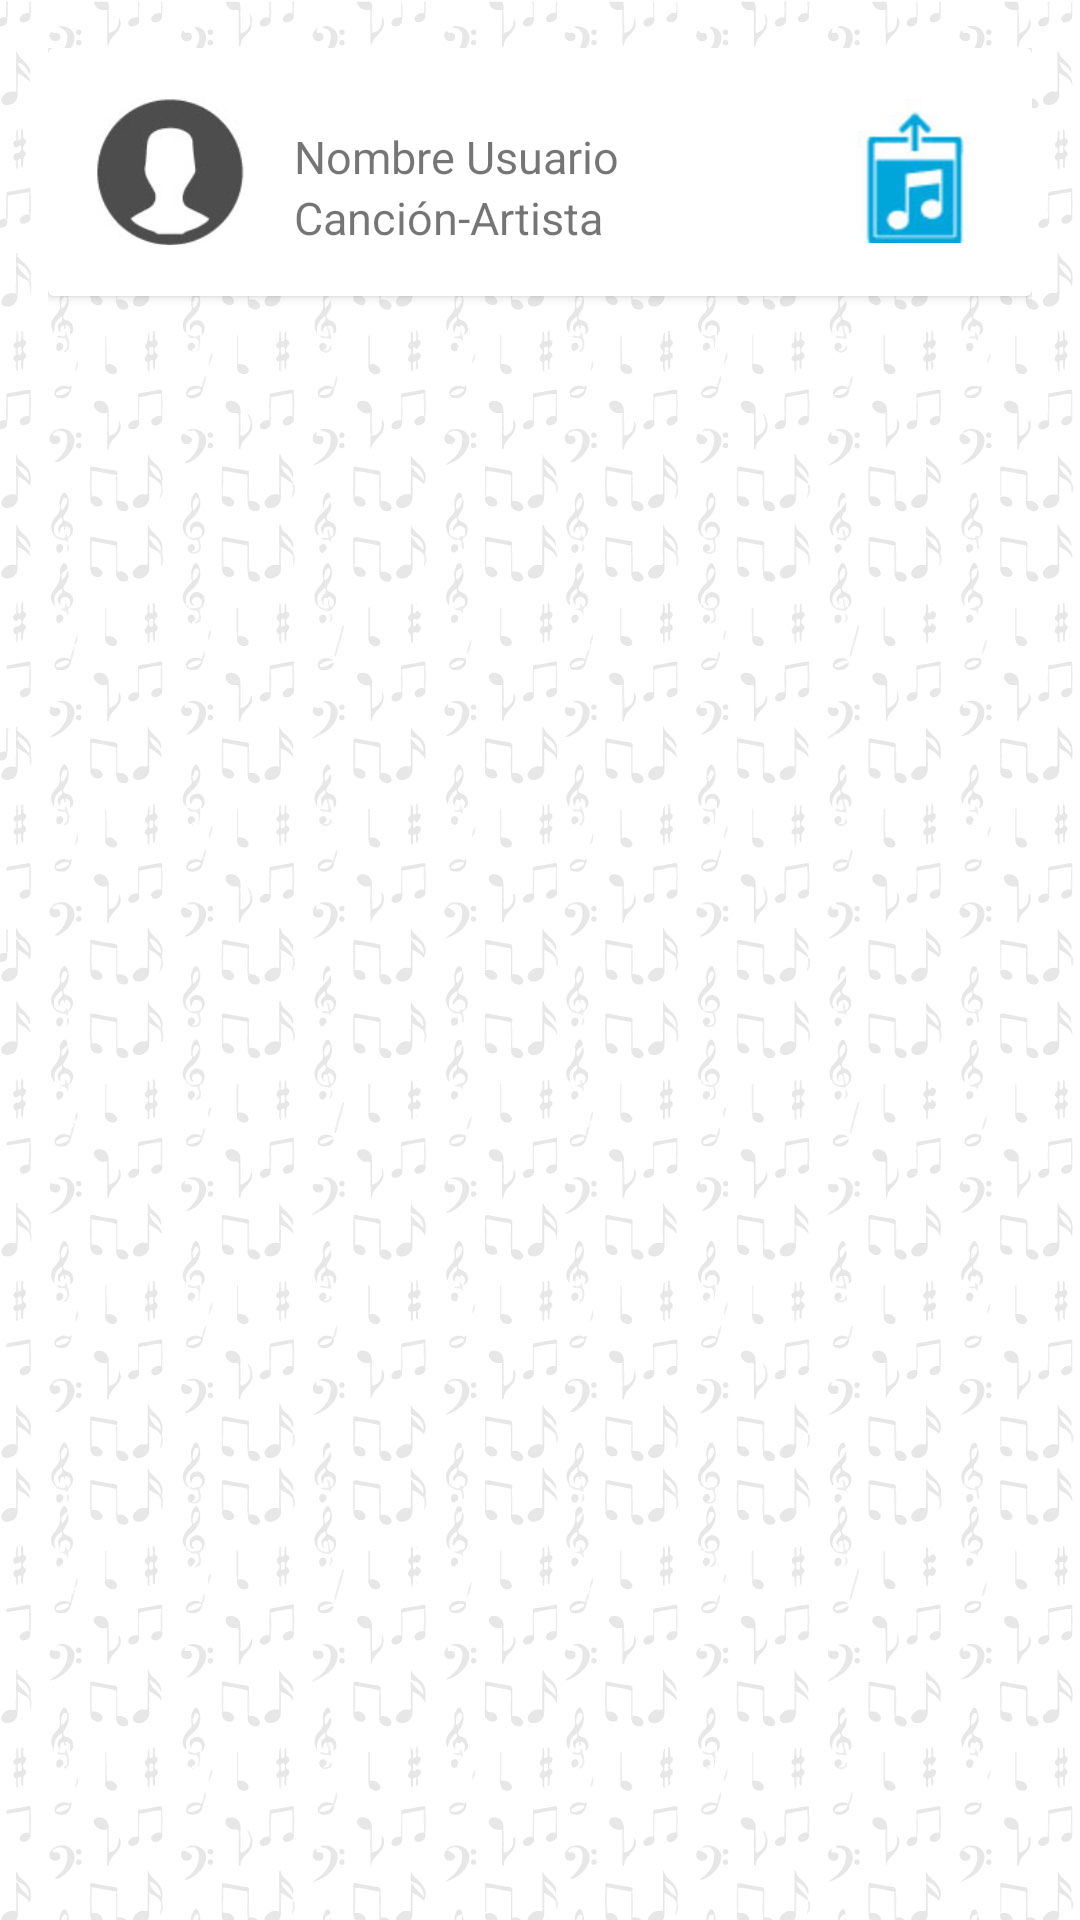

Where icons sit on this 1080x1920 app screen, as rect(x1, y1, x2, y2):
iconoparaperfil: rect(97, 99, 244, 245)
subirarchivo: rect(866, 112, 964, 243)
